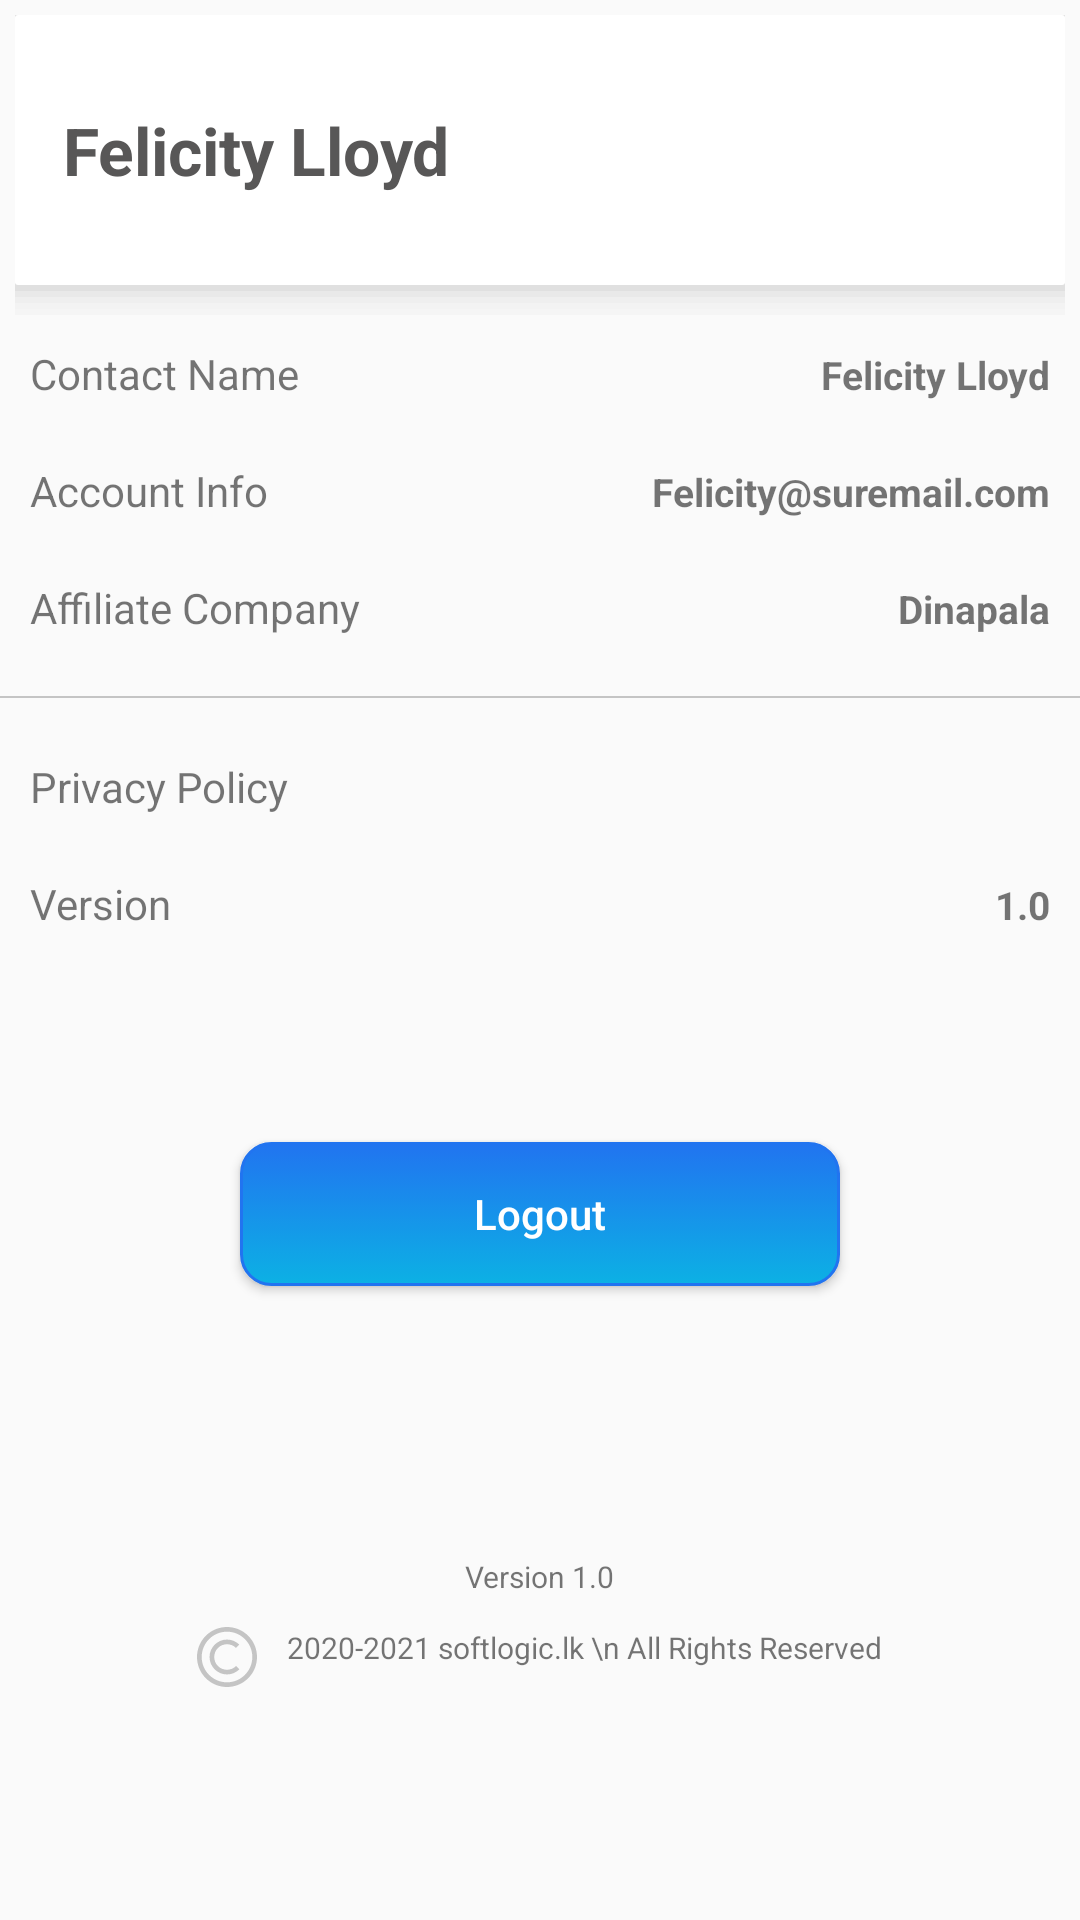

Icon bounding boxes for this 1080w x 1920h phone screenshot, format (x1,y1,x2,y2):
copyright: (197,1627,257,1687)
